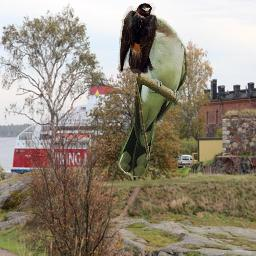Cuckoo: (118, 17, 188, 177)
Swallow: (119, 3, 157, 76)
